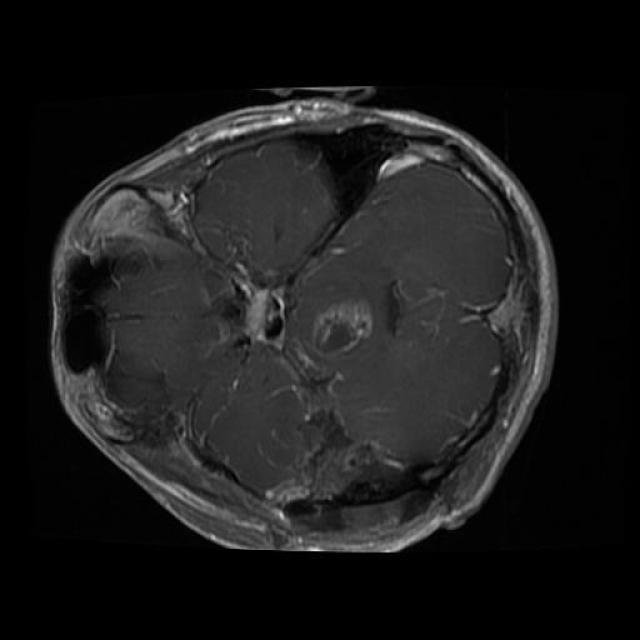Glioma: (311, 299, 372, 353)
